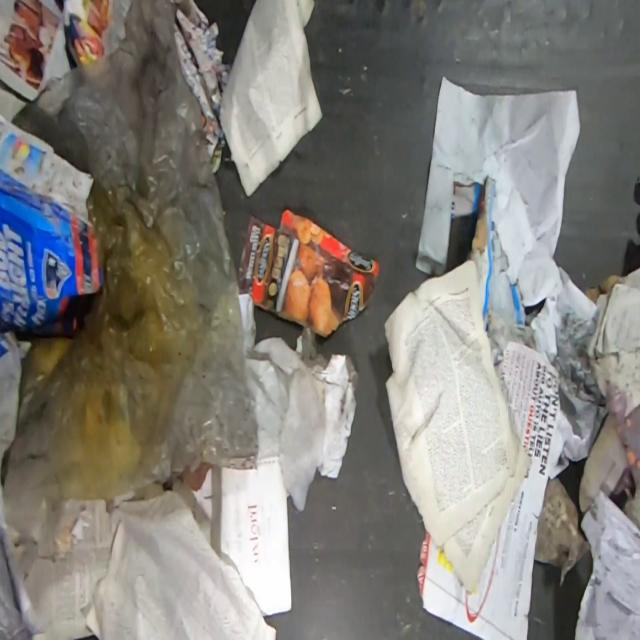cardboard: (0, 109, 103, 362), (237, 209, 379, 339), (442, 173, 526, 326)
soft_plastic: (2, 0, 259, 556)
